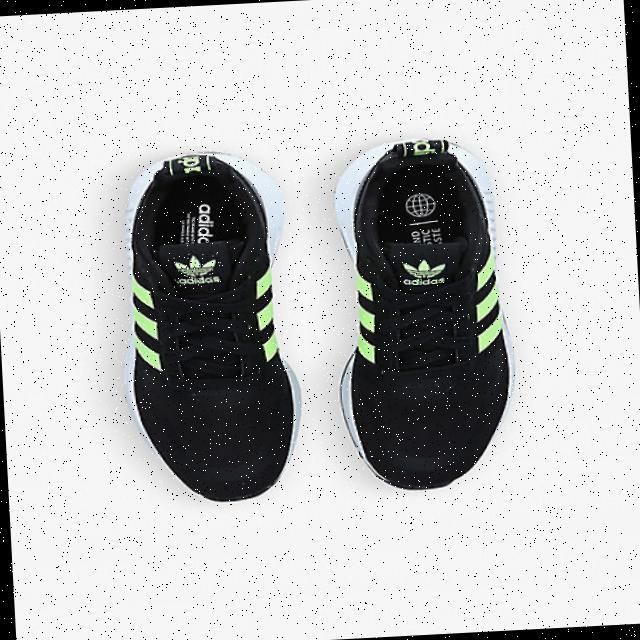Adidas: (171, 253, 225, 290), (399, 255, 454, 289)
